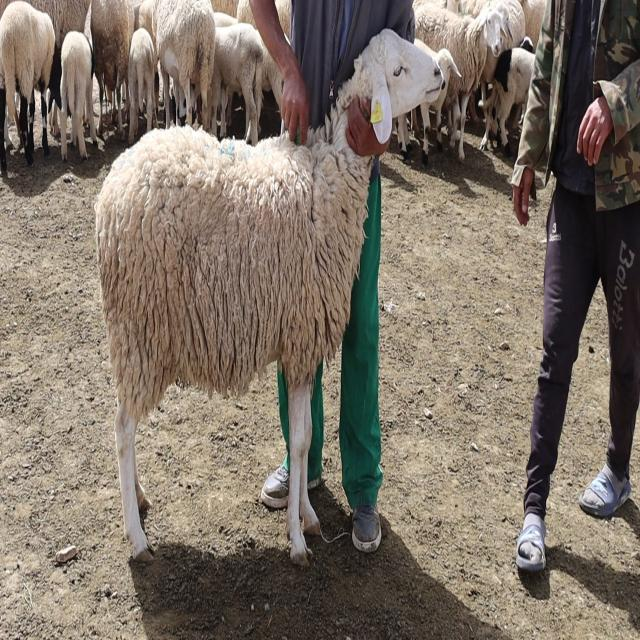Score_2: (95, 29, 444, 564)
